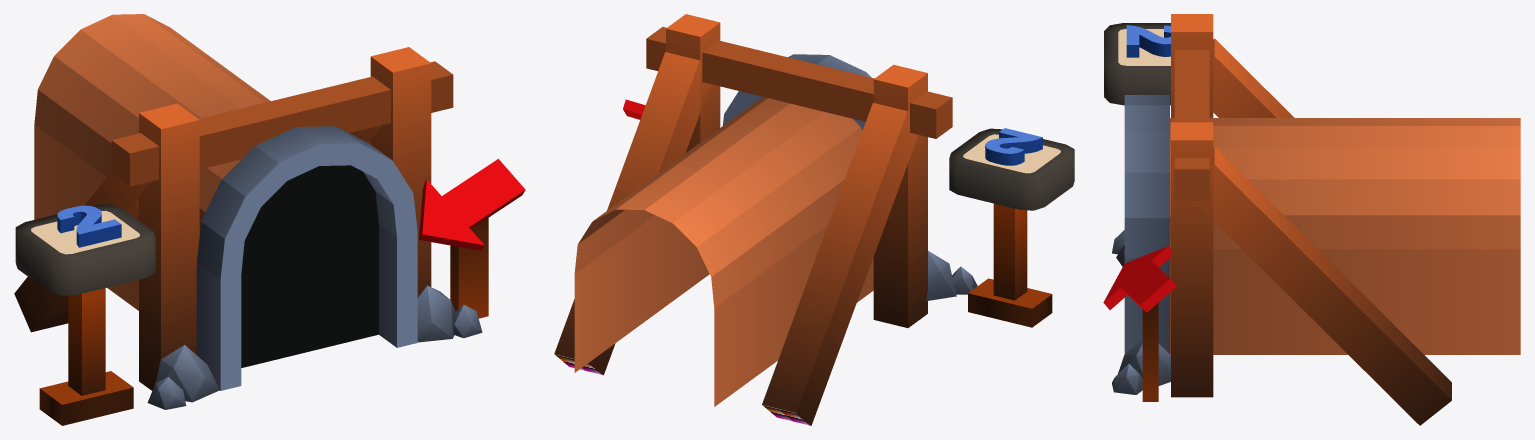
The model's file is Red_2.fbx.
3 views of the same model, side by side, from view 1: azimuth 30°, elevation 25°; view 2: azimuth 150°, elevation 25°; view 3: azimuth 270°, elevation 25° (orthographic). The views are drawn at different scales.
Parts seen in each view (by area): view 1: tunel.009, tunel.010, Text.009; view 2: tunel.009, Text.009; view 3: tunel.009, tunel.010, Text.009.
Part boxes in pixels (x1=…): tunel.009: x1=14, y1=14, x2=488, y2=425; tunel.010: x1=419, y1=159, x2=525, y2=250; Text.009: x1=57, y1=205, x2=121, y2=247; tunel.009: x1=554, y1=14, x2=1074, y2=425; Text.009: x1=985, y1=128, x2=1042, y2=165; tunel.009: x1=1104, y1=14, x2=1520, y2=425; tunel.010: x1=1103, y1=246, x2=1176, y2=312; Text.009: x1=1126, y1=25, x2=1170, y2=57.
Size of the model in its own units: 796 by 468 by 619.
